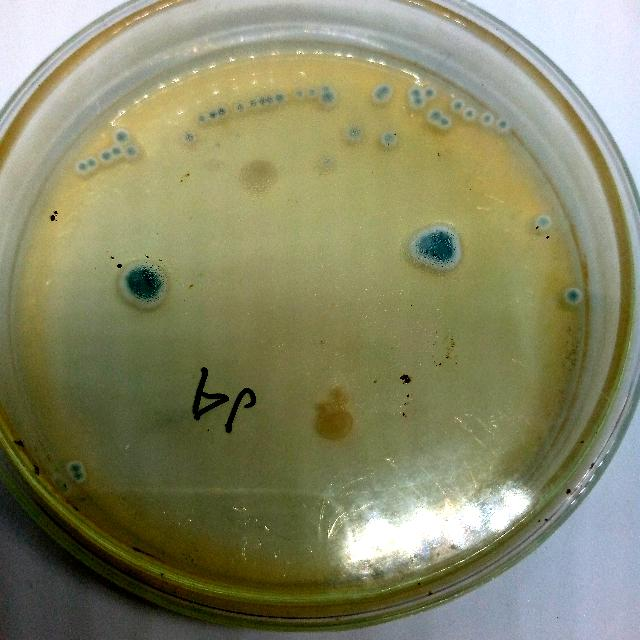colony: (110, 257, 172, 313), (408, 222, 464, 278), (237, 154, 283, 194), (312, 404, 354, 442), (368, 81, 394, 107), (562, 286, 584, 308), (318, 88, 336, 110), (112, 128, 132, 146), (493, 114, 511, 134), (379, 130, 398, 148), (427, 108, 445, 126), (536, 212, 552, 232), (346, 122, 362, 142), (66, 459, 86, 475), (449, 96, 466, 114), (479, 112, 496, 128), (422, 85, 438, 101), (436, 115, 452, 131), (462, 106, 478, 122), (75, 160, 91, 176), (98, 149, 114, 165), (123, 144, 139, 160), (408, 96, 426, 110), (70, 470, 88, 484), (408, 87, 424, 101), (108, 144, 124, 158), (182, 132, 196, 146), (272, 90, 286, 104), (234, 100, 246, 116), (216, 104, 228, 118), (247, 96, 259, 110), (85, 157, 98, 169), (207, 110, 220, 122), (306, 86, 318, 98), (256, 94, 266, 108), (196, 113, 207, 125), (320, 84, 332, 95), (264, 92, 274, 105), (294, 87, 304, 99)
